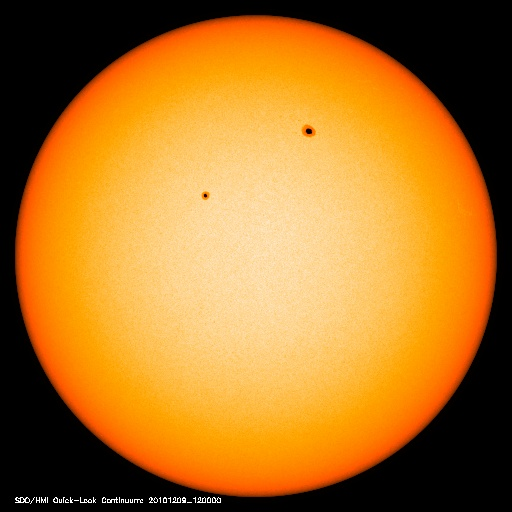sunspot: (291, 116, 324, 145), (191, 180, 220, 209)
